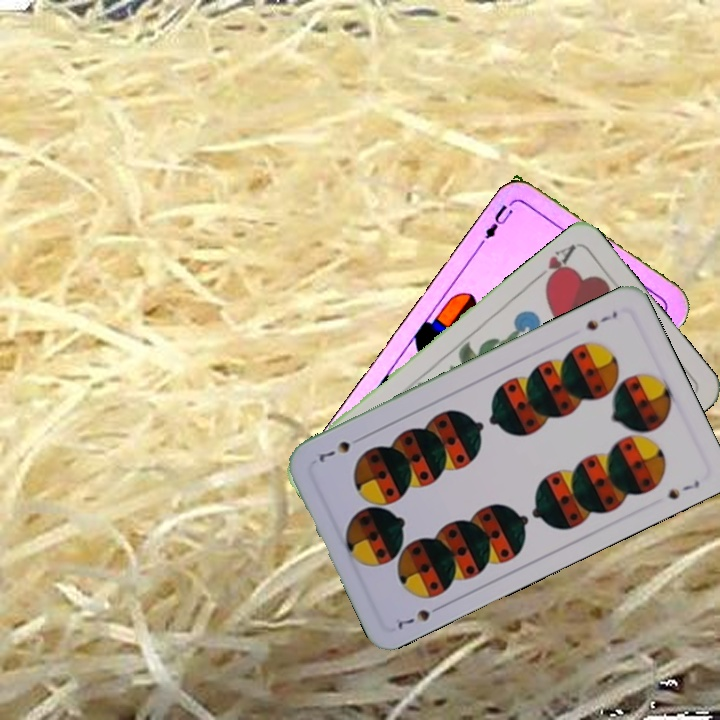EU: (476, 196, 518, 247)
HA: (529, 240, 578, 289)
S7: (393, 600, 446, 632), (581, 306, 620, 333)
